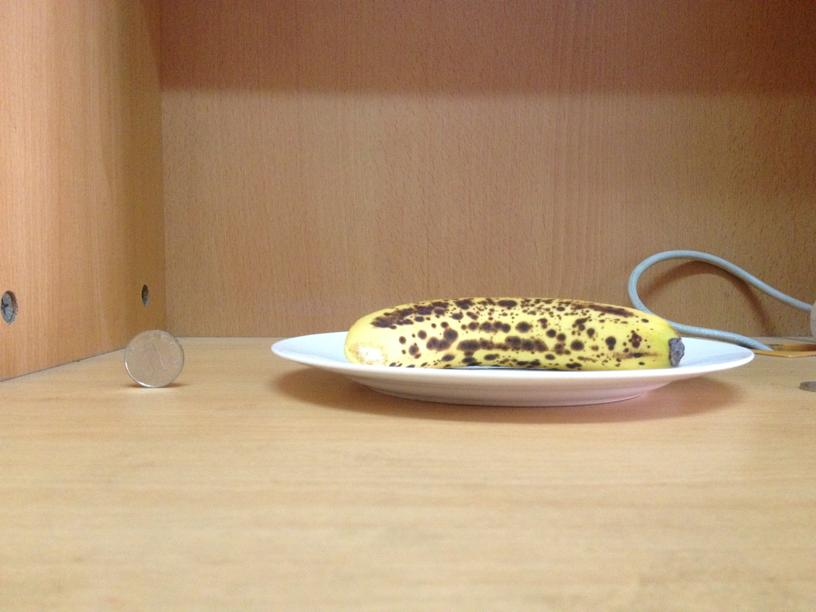banana: (342, 295, 677, 370)
coin: (122, 327, 185, 388)
